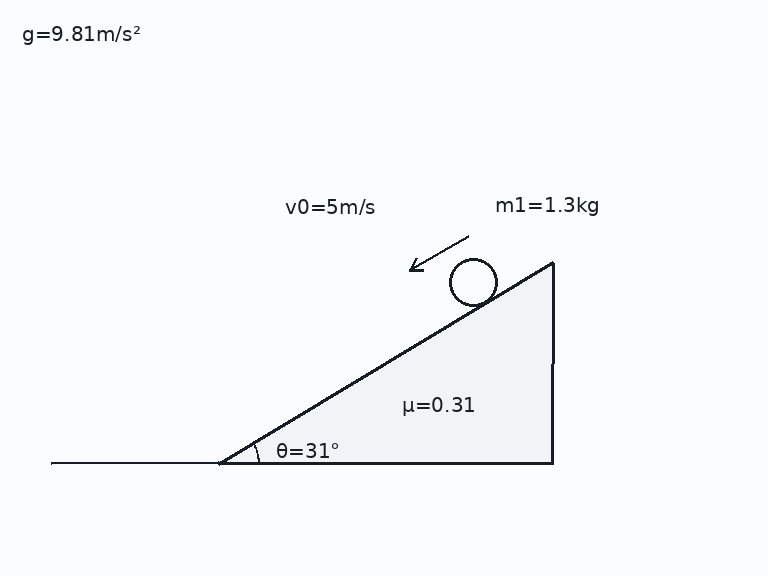ball: (447, 256, 499, 308)
ramp: (217, 261, 554, 465)
